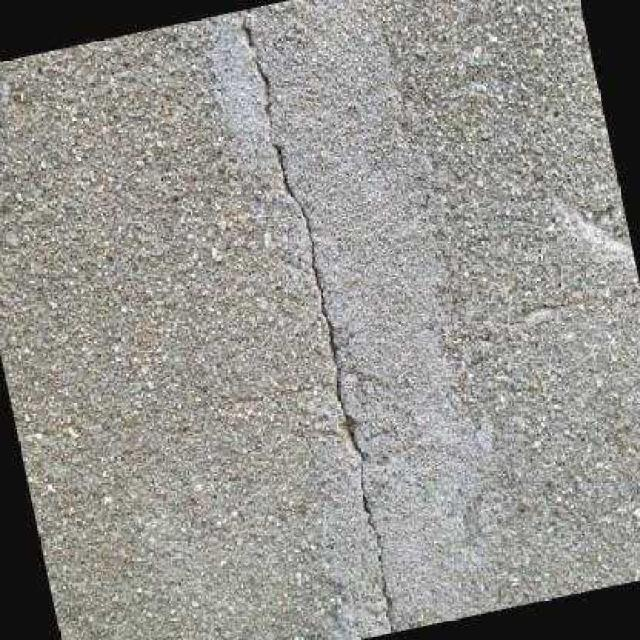D00: (242, 8, 395, 632)
